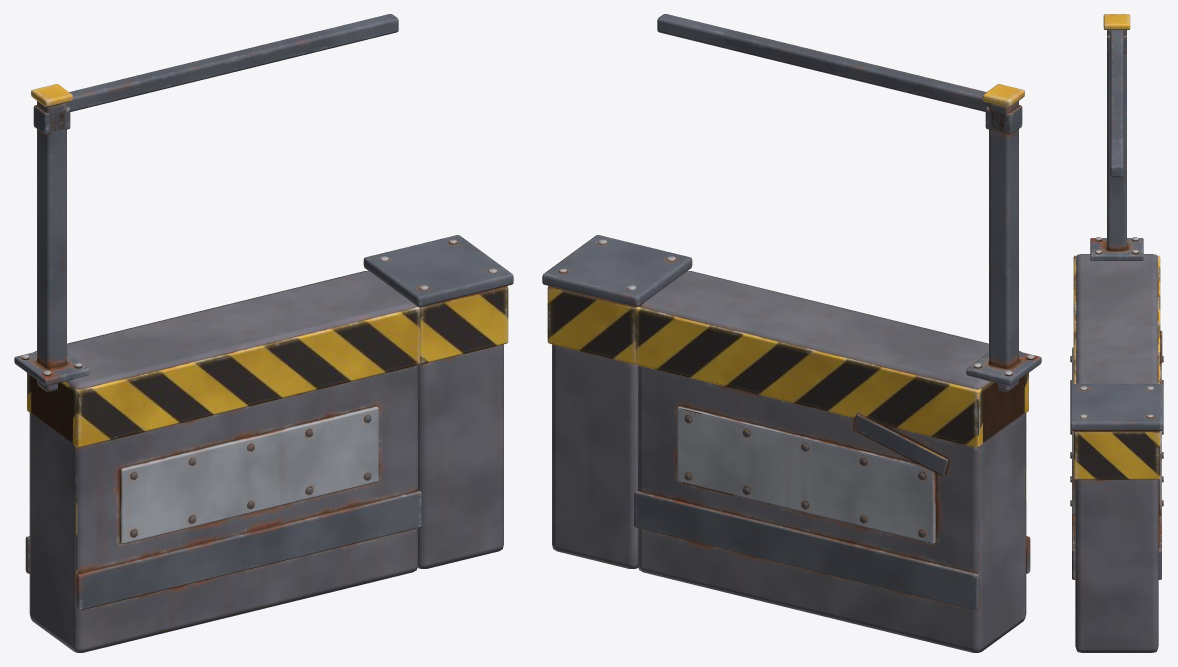
Rendered from arena_wall.glb.
3 views of the same model, side by side, from view 1: azimuth 30°, elevation 25°; view 2: azimuth 150°, elevation 25°; view 3: azimuth 270°, elevation 25° (orthographic). The views are drawn at different scales.
Visible parts, largest first — view 1: seg, corner, post; view 2: seg, corner, post; view 3: corner, seg, post.
Boxes of the visible parts, box(x1,y1,x2,y2) form: seg: box(25, 14, 421, 652); corner: box(363, 235, 513, 568); post: box(14, 84, 89, 391); seg: box(634, 14, 1030, 652); corner: box(542, 235, 692, 568); post: box(966, 84, 1041, 391); corner: box(1070, 384, 1163, 652); seg: box(1070, 30, 1163, 579); post: box(1090, 14, 1143, 260).
Size of the model in its own units: 2.66 by 3.04 by 0.56.
1 material, 1 textured.
